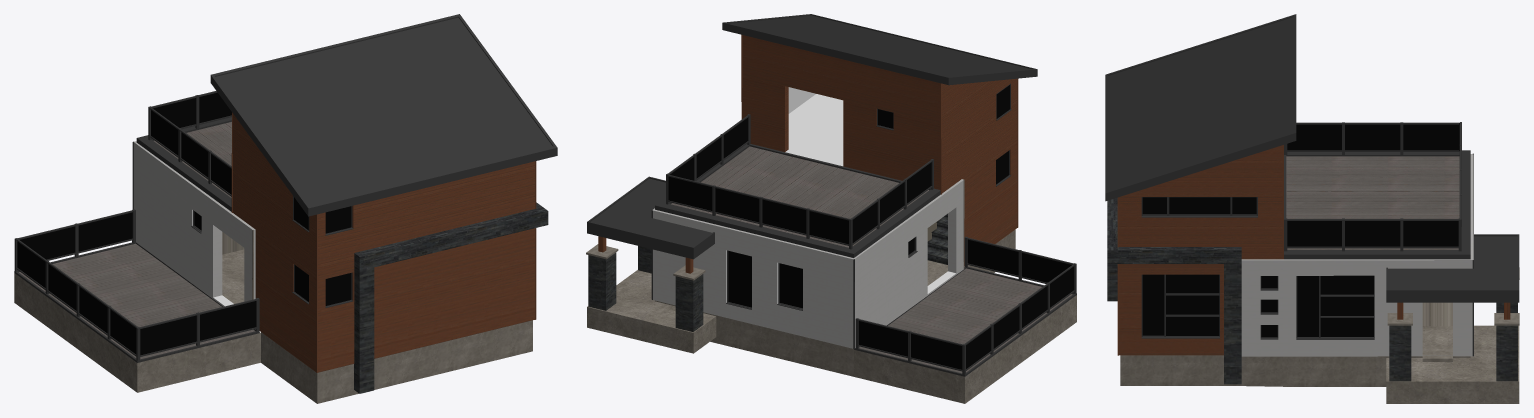
The model's file is house1.fbx.
The picture shows the model from 3 angles, left to right: view 1: azimuth 30°, elevation 25°; view 2: azimuth 150°, elevation 25°; view 3: azimuth 270°, elevation 25°; orthographic projection. The views are drawn at different scales.
Parts seen in each view (by area): view 1: HouseSpodok.001, House.001; view 2: HouseSpodok.001, House.001; view 3: House.001, HouseSpodok.001.
Part boxes in pixels (<box>): HouseSpodok.001: <box>14,142,536,403</box>; House.001: <box>133,14,557,275</box>; HouseSpodok.001: <box>586,78,1076,403</box>; House.001: <box>652,14,1037,259</box>; House.001: <box>1105,14,1473,263</box>; HouseSpodok.001: <box>1107,154,1519,403</box>.
Size of the model in its own units: 1128 by 736 by 1058.
